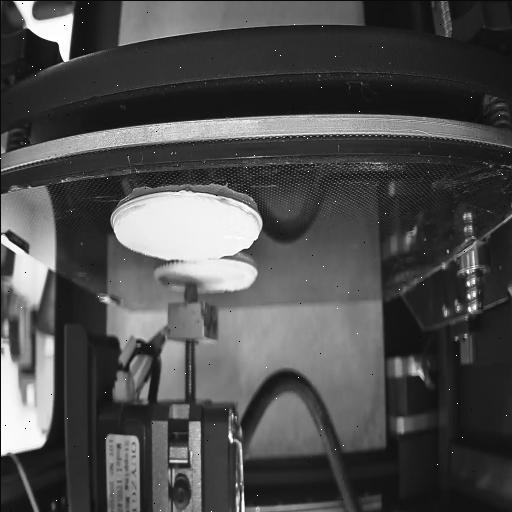over_extrusion: (247, 208, 262, 240)
